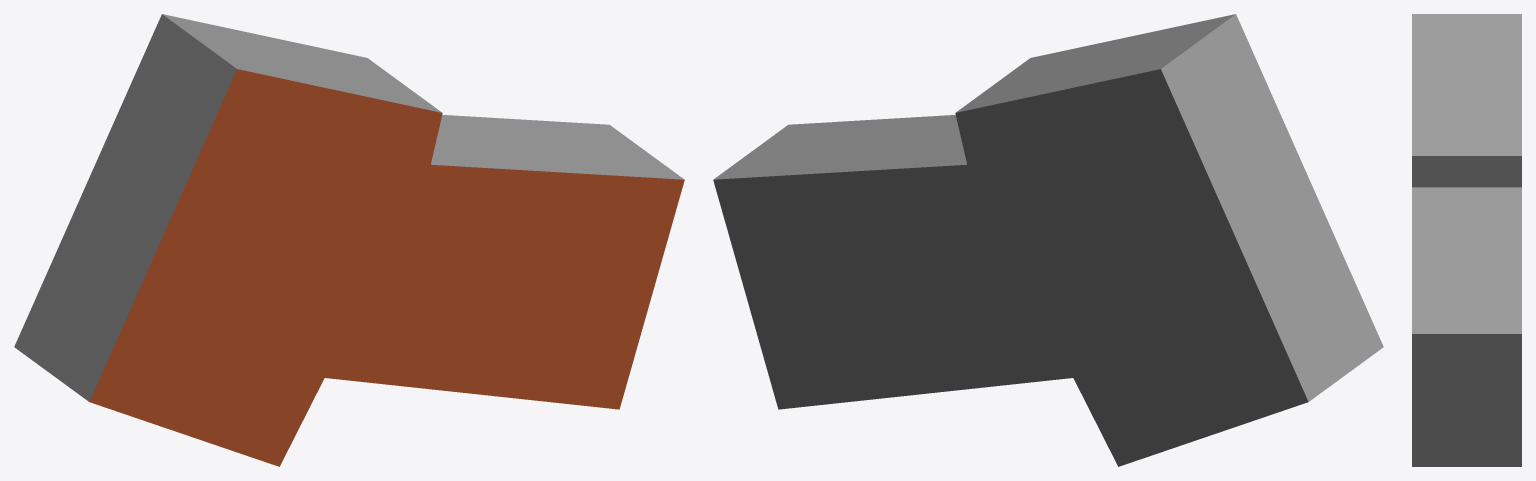
File: construction_5605_assumed_A_Casa_h6m.obj
3 renders of one model, left to right at view 1: azimuth 30°, elevation 25°; view 2: azimuth 150°, elevation 25°; view 3: azimuth 270°, elevation 25°, orthographic. The views are drawn at different scales.
Parts seen in each view (by area): view 1: construction_5605_assumed_A_Casa; view 2: construction_5605_assumed_A_Casa; view 3: construction_5605_assumed_A_Casa.
Boxes of the visible parts, bbox=[...] form: construction_5605_assumed_A_Casa: bbox=[14, 14, 684, 466]; construction_5605_assumed_A_Casa: bbox=[713, 14, 1383, 466]; construction_5605_assumed_A_Casa: bbox=[1412, 14, 1521, 466].
Bounding box in the file's own units: 27.44 × 19.1 × 6.
